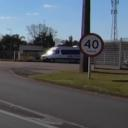speed_limit_40: (77, 32, 105, 58)
